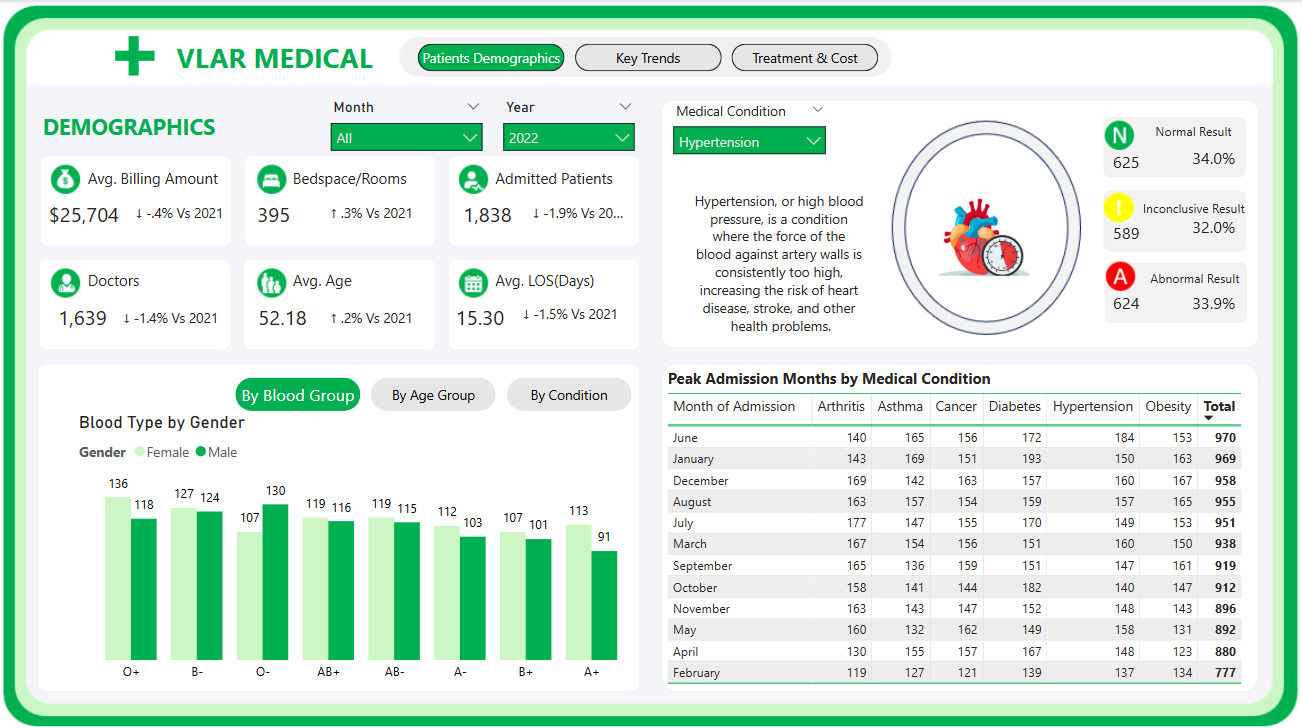

Layout of this report page (visuals, bound fields, positions):
{"tool":"powerbi","page":{"name":"Patients Demographics","canvas":[1280,720],"ordinal":0},"visuals":[{"type":"card","fields":{"Values":["DAX.Admitted Patients"]},"box":[434.9,197.7,90.7,26.7],"z":0},{"type":"textbox","box":[482.7,159.3,135.8,30.9],"z":1000},{"type":"textbox","box":[283.7,260.5,122.1,30.2],"z":2000},{"type":"clusteredColumnChart","title":"Blood Type by Gender","fields":{"Y":["DAX.Admitted Patients"],"Category":["Vlar Health.Blood Type"],"Series":["Vlar Health.Gender"]},"box":[74.1,403.7,565.4,274.1],"z":2000,"group":"g1"},{"type":"textbox","box":[82.6,260.5,131.4,30.2],"z":3000},{"type":"textbox","box":[284,159.3,132.1,30.9],"z":4000},{"type":"textbox","box":[82.6,159.3,150,30.2],"z":5000},{"type":"textbox","box":[482.6,260.5,140.7,30.2],"z":6000},{"type":"card","fields":{"Values":["DAX.Avg LOS"]},"box":[426.7,300,90.7,26.7],"z":7000},{"type":"card","fields":{"Values":["DAX.Rooms"]},"box":[224.4,197.7,90.7,26.7],"z":8000},{"type":"card","fields":{"Values":["DAX.Average Age"]},"box":[232.6,300,90.7,26.7],"z":9000},{"type":"card","fields":{"Values":["DAX.Doctors"]},"box":[37.2,300,90.7,26.7],"z":10000},{"type":"card","fields":{"Values":["DAX.Avg Billing Amt"]},"box":[8.1,197.7,150,26.7],"z":11000},{"type":"card","fields":{"Values":["DAX.Room YoY"]},"box":[315.1,195.3,101.2,32.6],"z":12000},{"type":"card","fields":{"Values":["DAX.LOS YoY"]},"box":[502.5,295.1,116,32.1],"z":13000},{"type":"card","fields":{"Values":["DAX.Age YoY"]},"box":[315.1,297.7,101.2,32.6],"z":14000},{"type":"card","fields":{"Values":["DAX.Doc YoY"]},"box":[112.8,297.7,111.6,32.6],"z":15000},{"type":"card","fields":{"Values":["DAX.Bill YoY"]},"box":[123.3,195.3,109.3,32.6],"z":16000},{"type":"card","fields":{"Values":["DAX.Adm YoY"]},"box":[517.4,195.3,101.2,32.6],"z":17000},{"type":"slicer","fields":{"Values":["Calendar.Year"]},"box":[485.2,92.6,149.4,63],"z":18000},{"type":"slicer","fields":{"Values":["DimCondition.Medical Condition"]},"box":[651.9,95.1,170.4,60.5],"z":19000},{"type":"tableEx","fields":{"Values":["DimCondition.URL 2"]},"box":[911.7,158.3,115.3,131.3],"z":20000},{"type":"card","fields":{"Values":["Min(DimCondition.Description)"]},"box":[671.2,160.7,192.6,170.6],"z":21000},{"type":"card","fields":{"Values":["DAX.Normal Results"]},"box":[1078.5,144.8,56.4,31.9],"z":22000},{"type":"card","fields":{"Values":["DAX.Inconclusive Results"]},"box":[1078.5,214.7,56.4,31.9],"z":23000},{"type":"card","fields":{"Values":["DAX.Abnormal Results"]},"box":[1083.4,283.4,46.6,31.9],"z":24000},{"type":"card","fields":{"Values":["DAX.Normal %"]},"box":[1164.4,141.1,56.4,31.9],"z":25000},{"type":"card","fields":{"Values":["DAX.Inconclusive %"]},"box":[1164.4,208.6,56.4,31.9],"z":26000},{"type":"card","fields":{"Values":["DAX.Abnormal %"]},"box":[1164.4,283.4,56.4,31.9],"z":27000},{"type":"textbox","box":[1130.1,114.1,114.1,30.7],"z":28000},{"type":"textbox","box":[1117.8,190.2,149.7,30.7],"z":29000},{"type":"textbox","box":[1125.2,258.9,119,30.7],"z":30000},{"type":"group","id":"g1","title":"Demographics","box":[54.3,403.7,585.2,274.1],"z":31000},{"type":"bookmarkNavigator","box":[232.1,370.4,390.1,33.3],"z":32000},{"type":"pivotTable","title":"Peak Admission Months by Medical Condition ","fields":{"Columns":["DimCondition.Medical Condition"],"Values":["DAX.Admitted Patients"],"Rows":["Vlar Health.Month of Admission"]},"box":[651.5,360.7,574.2,316.6],"z":33000},{"type":"slicer","fields":{"Values":["Calendar.Month"]},"box":[315.3,92,169.3,63.8],"z":34000},{"type":"pageNavigator","box":[411.1,43.2,453.1,27.2],"z":35000},{"type":"textbox","box":[38,104.3,195.1,42.9],"z":36000},{"type":"textbox","box":[169.3,33.1,227,58.9],"z":37000}]}

Visuals, with their boxes in screenshot pixels (x1, y1, x2, y2), scaled from the page's 1280x720 canvas onto the 1302x728 screenshot:
card - DAX.Admitted Patients: (left=442, top=200, right=535, bottom=227)
textbox: (left=491, top=161, right=629, bottom=192)
textbox: (left=289, top=263, right=413, bottom=294)
"Blood Type by Gender" clusteredColumnChart: (left=75, top=408, right=650, bottom=685)
textbox: (left=84, top=263, right=218, bottom=294)
textbox: (left=289, top=161, right=423, bottom=192)
textbox: (left=84, top=161, right=237, bottom=192)
textbox: (left=491, top=263, right=634, bottom=294)
card - DAX.Avg LOS: (left=434, top=303, right=526, bottom=330)
card - DAX.Rooms: (left=228, top=200, right=321, bottom=227)
card - DAX.Average Age: (left=237, top=303, right=329, bottom=330)
card - DAX.Doctors: (left=38, top=303, right=130, bottom=330)
card - DAX.Avg Billing Amt: (left=8, top=200, right=161, bottom=227)
card - DAX.Room YoY: (left=321, top=197, right=423, bottom=230)
card - DAX.LOS YoY: (left=511, top=298, right=629, bottom=331)
card - DAX.Age YoY: (left=321, top=301, right=423, bottom=334)
card - DAX.Doc YoY: (left=115, top=301, right=228, bottom=334)
card - DAX.Bill YoY: (left=125, top=197, right=237, bottom=230)
card - DAX.Adm YoY: (left=526, top=197, right=629, bottom=230)
slicer - Calendar.Year: (left=494, top=94, right=646, bottom=157)
slicer - DimCondition.Medical Condition: (left=663, top=96, right=836, bottom=157)
tableEx - DimCondition.URL 2: (left=927, top=160, right=1045, bottom=293)
card - Min(DimCondition.Description): (left=683, top=162, right=879, bottom=335)
card - DAX.Normal Results: (left=1097, top=146, right=1154, bottom=179)
card - DAX.Inconclusive Results: (left=1097, top=217, right=1154, bottom=249)
card - DAX.Abnormal Results: (left=1102, top=287, right=1149, bottom=319)
card - DAX.Normal %: (left=1184, top=143, right=1242, bottom=175)
card - DAX.Inconclusive %: (left=1184, top=211, right=1242, bottom=243)
card - DAX.Abnormal %: (left=1184, top=287, right=1242, bottom=319)
textbox: (left=1150, top=115, right=1266, bottom=146)
textbox: (left=1137, top=192, right=1289, bottom=223)
textbox: (left=1145, top=262, right=1266, bottom=293)
"Demographics" group: (left=55, top=408, right=650, bottom=685)
bookmarkNavigator: (left=236, top=375, right=633, bottom=408)
"Peak Admission Months by Medical Condition " pivotTable: (left=663, top=365, right=1247, bottom=685)
slicer - Calendar.Month: (left=321, top=93, right=493, bottom=158)
pageNavigator: (left=418, top=44, right=879, bottom=71)
textbox: (left=39, top=105, right=237, bottom=149)
textbox: (left=172, top=33, right=403, bottom=93)
